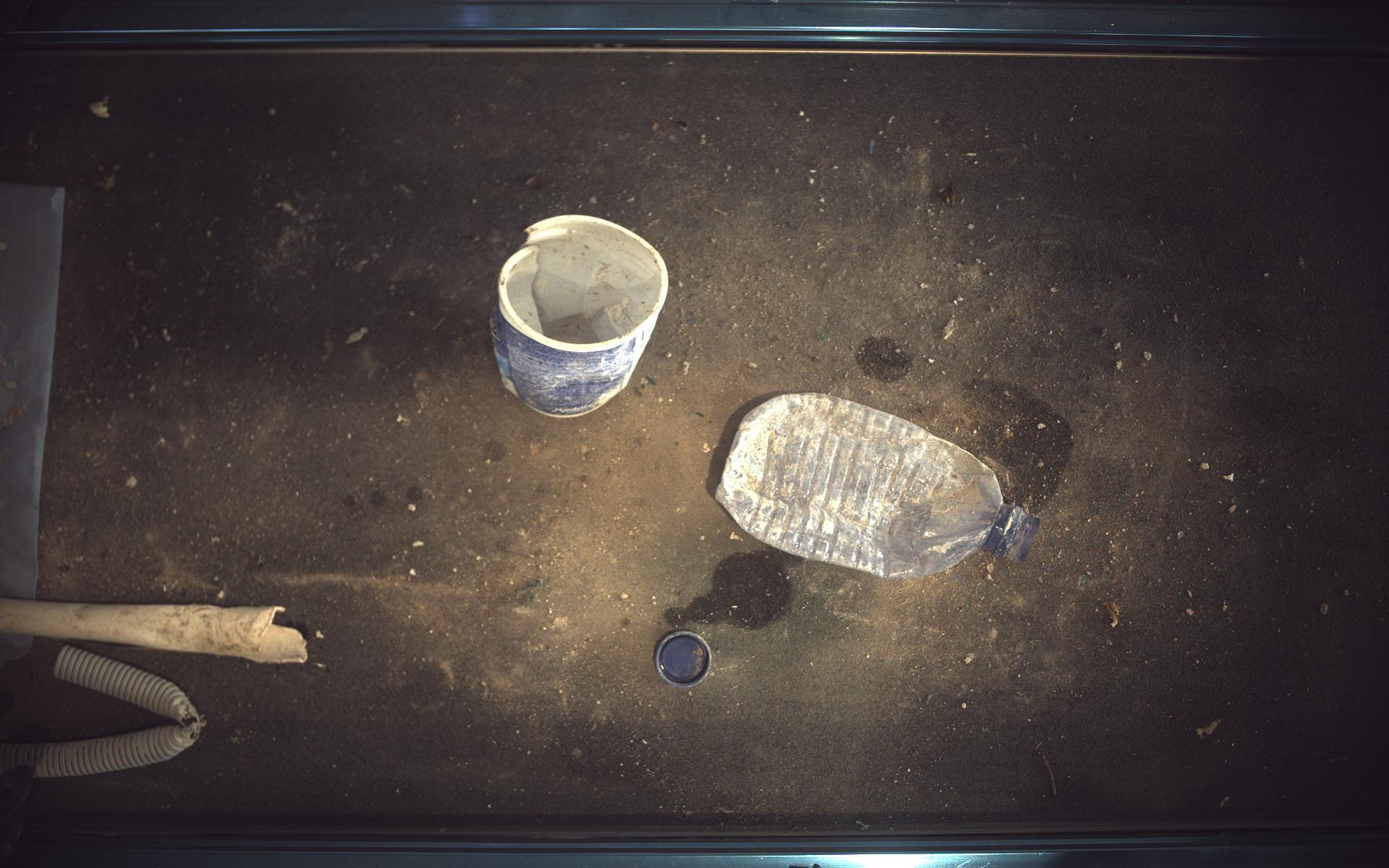general_w: (717, 393, 1042, 579), (491, 214, 669, 417), (655, 631, 713, 691)
